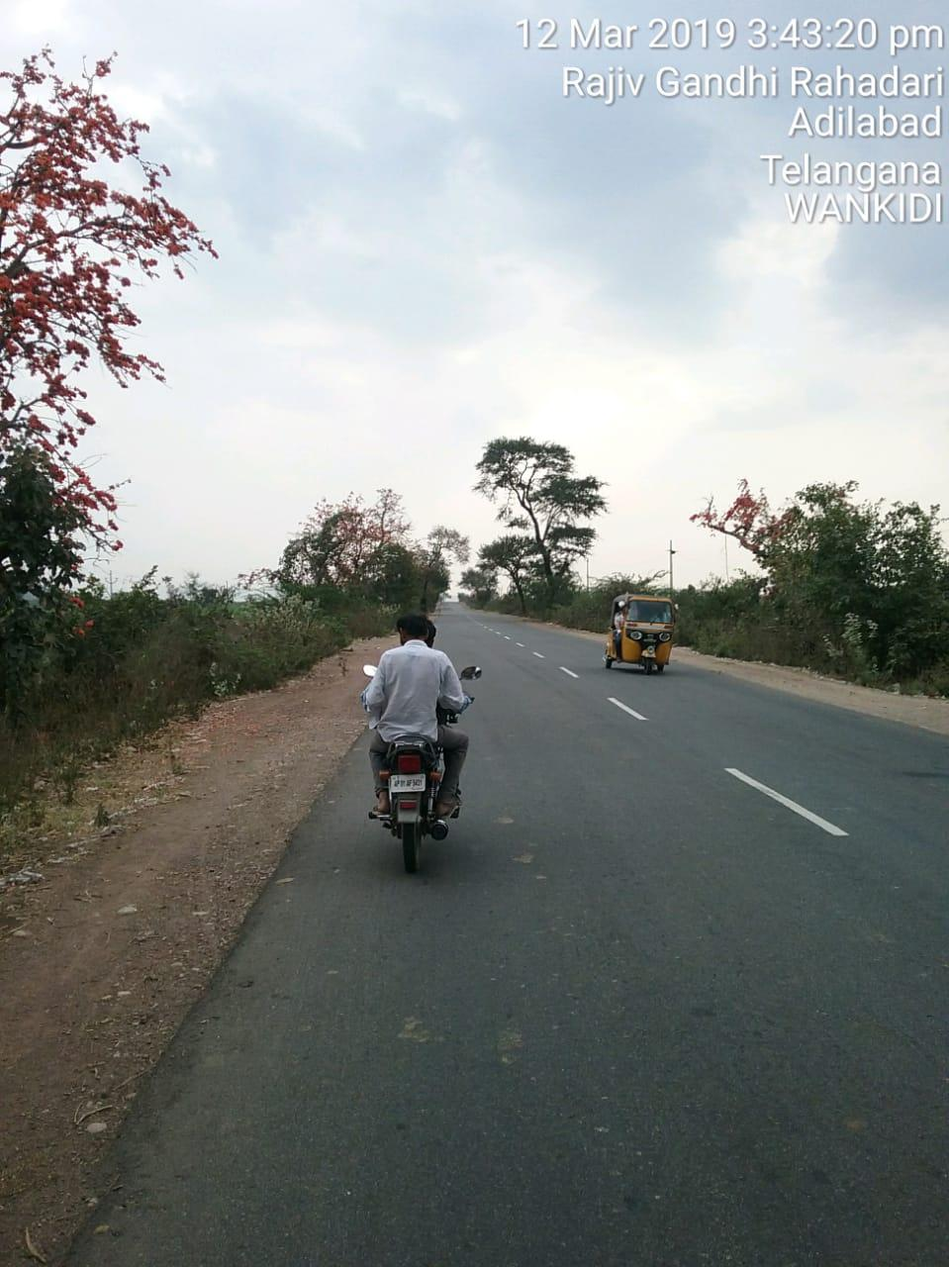plate: (386, 773, 432, 795)
